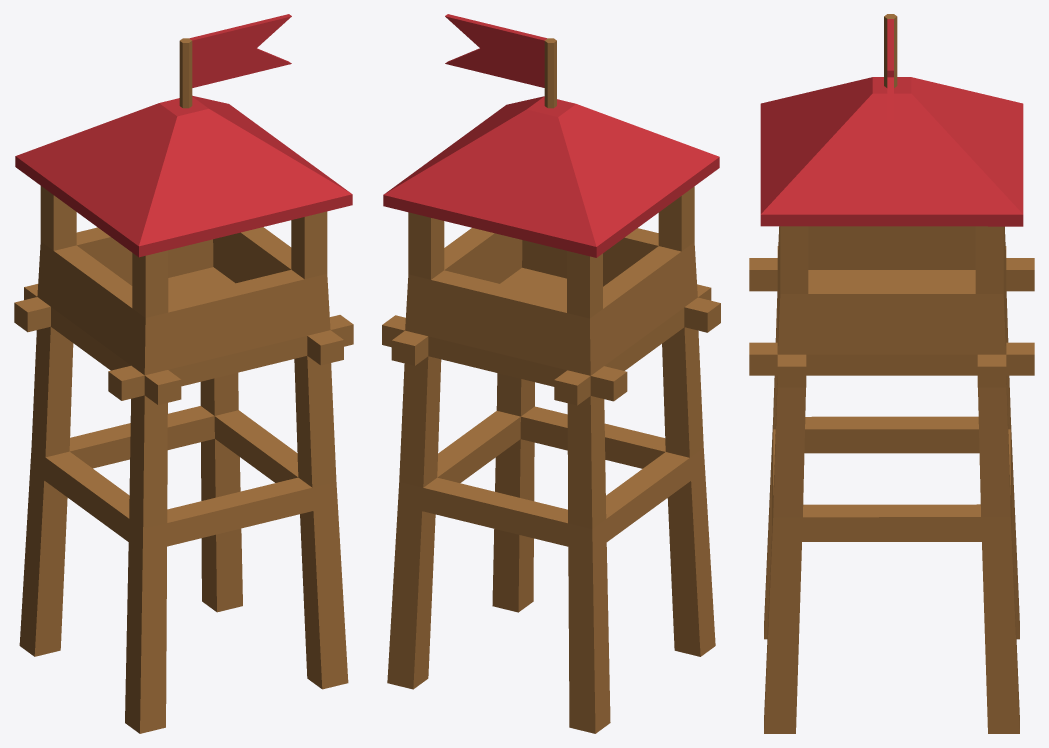
The model's file is watchtowerwroof.glb.
The picture shows the model from 3 angles, left to right: view 1: azimuth 30°, elevation 25°; view 2: azimuth 150°, elevation 25°; view 3: azimuth 270°, elevation 25°; orthographic projection. The views are drawn at different scales.
Parts seen in each view (by area): view 1: Watchtower With Roof; view 2: Watchtower With Roof; view 3: Watchtower With Roof.
Boxes of the visible parts, x1=… form: Watchtower With Roof: x1=14, y1=14, x2=353, y2=733; Watchtower With Roof: x1=382, y1=14, x2=720, y2=733; Watchtower With Roof: x1=749, y1=14, x2=1034, y2=733.
Bounding box in the file's own units: 1.49 × 3.84 × 1.49.
